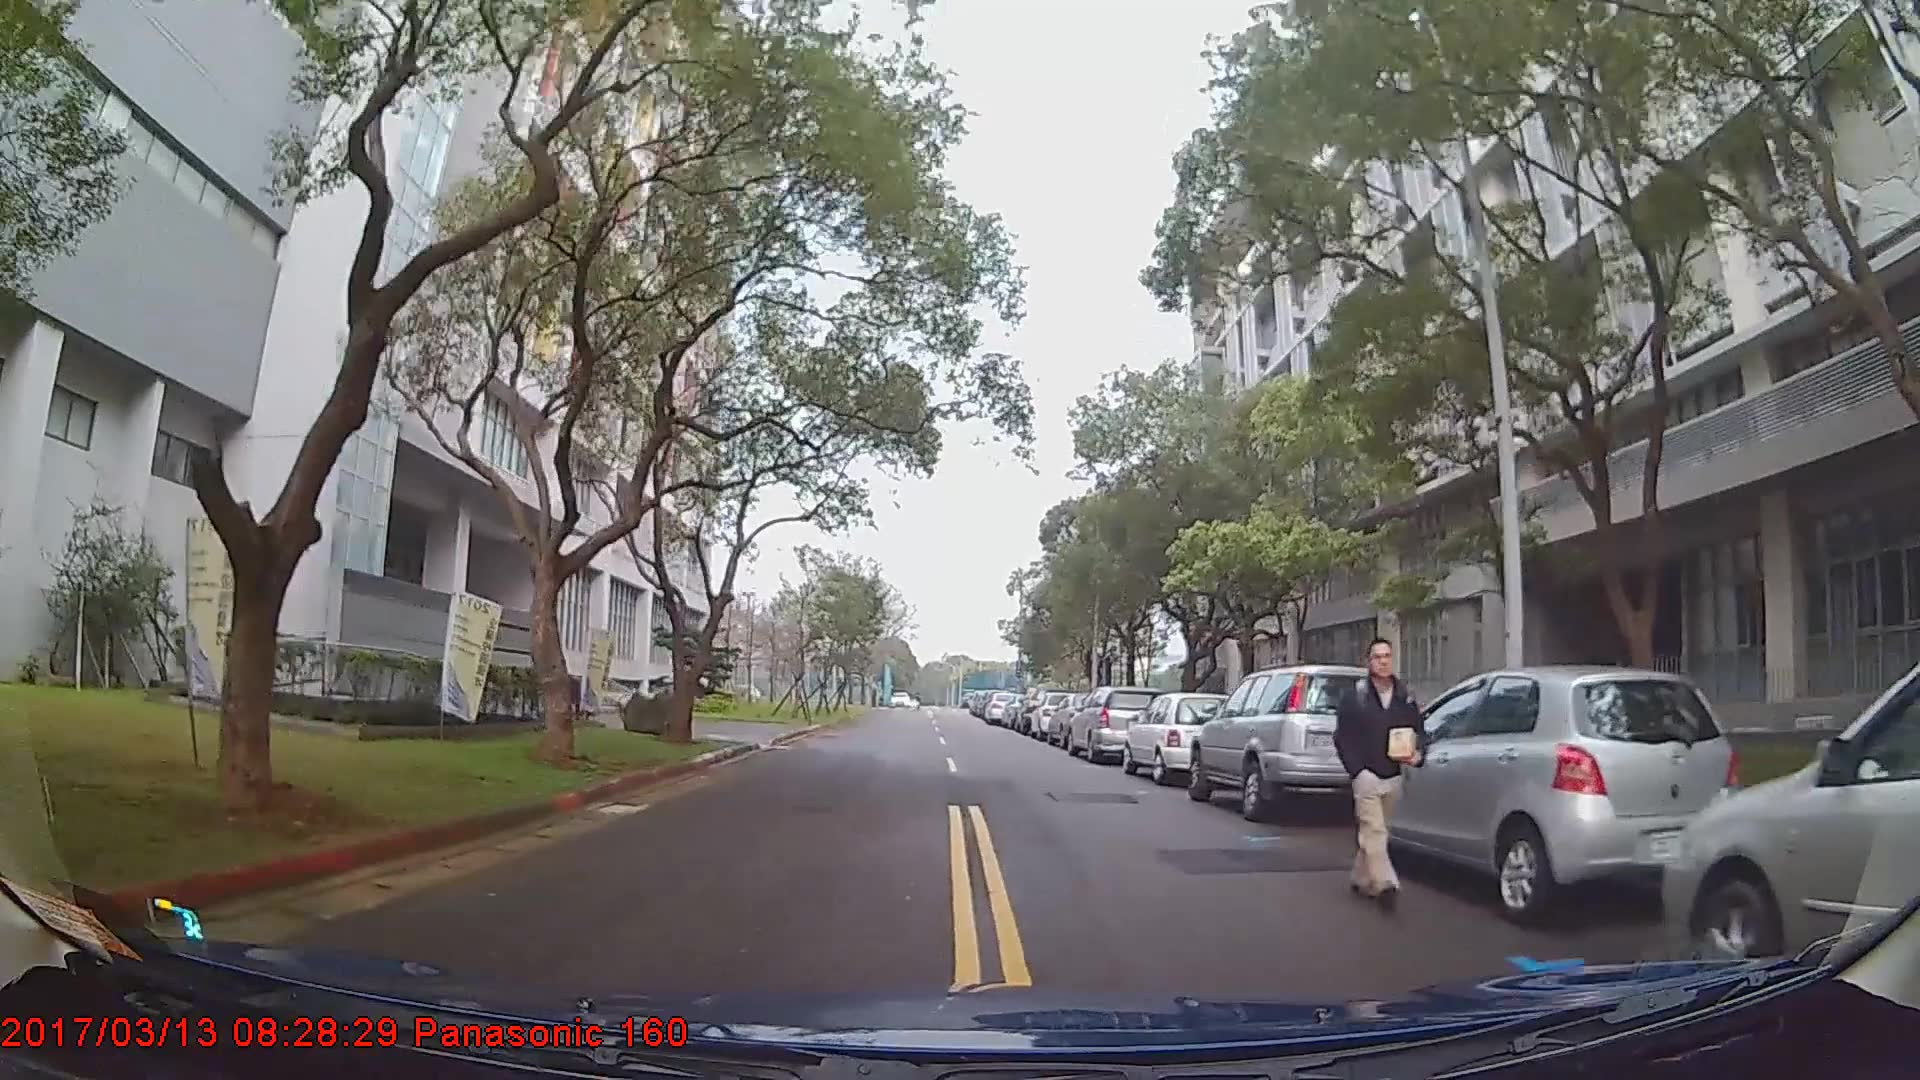pedestrian: (1340, 636, 1440, 911)
vehicle: (1355, 660, 1743, 922), (1658, 660, 1919, 988), (1189, 661, 1419, 820), (1121, 690, 1242, 783), (1067, 684, 1167, 763), (984, 687, 1023, 725)
